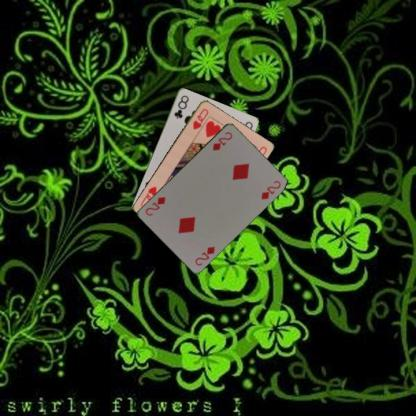2d: (192, 244, 216, 266), (210, 129, 233, 151)
8c: (171, 92, 190, 119)
Qh: (190, 106, 210, 130)
